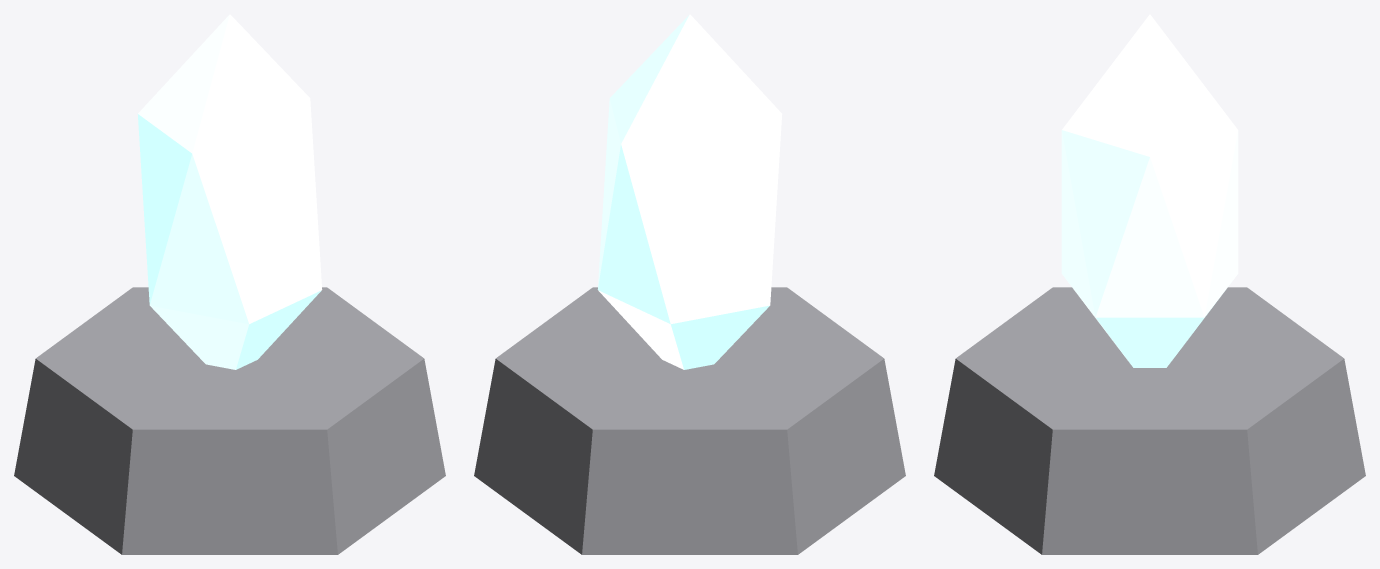
3 renders of one model, left to right at view 1: azimuth 30°, elevation 25°; view 2: azimuth 150°, elevation 25°; view 3: azimuth 270°, elevation 25°, orthographic.
Parts seen in each view (by area): view 1: plinth, crystal; view 2: plinth, crystal; view 3: plinth, crystal.
Boxes of the visible parts, <box> form: plinth: <box>14,287,445,554</box>; crystal: <box>137,14,322,369</box>; plinth: <box>474,287,905,554</box>; crystal: <box>597,14,782,369</box>; plinth: <box>934,287,1365,554</box>; crystal: <box>1061,14,1238,367</box>.
Bounding box in the file's own units: 1.73 × 2.36 × 2.
